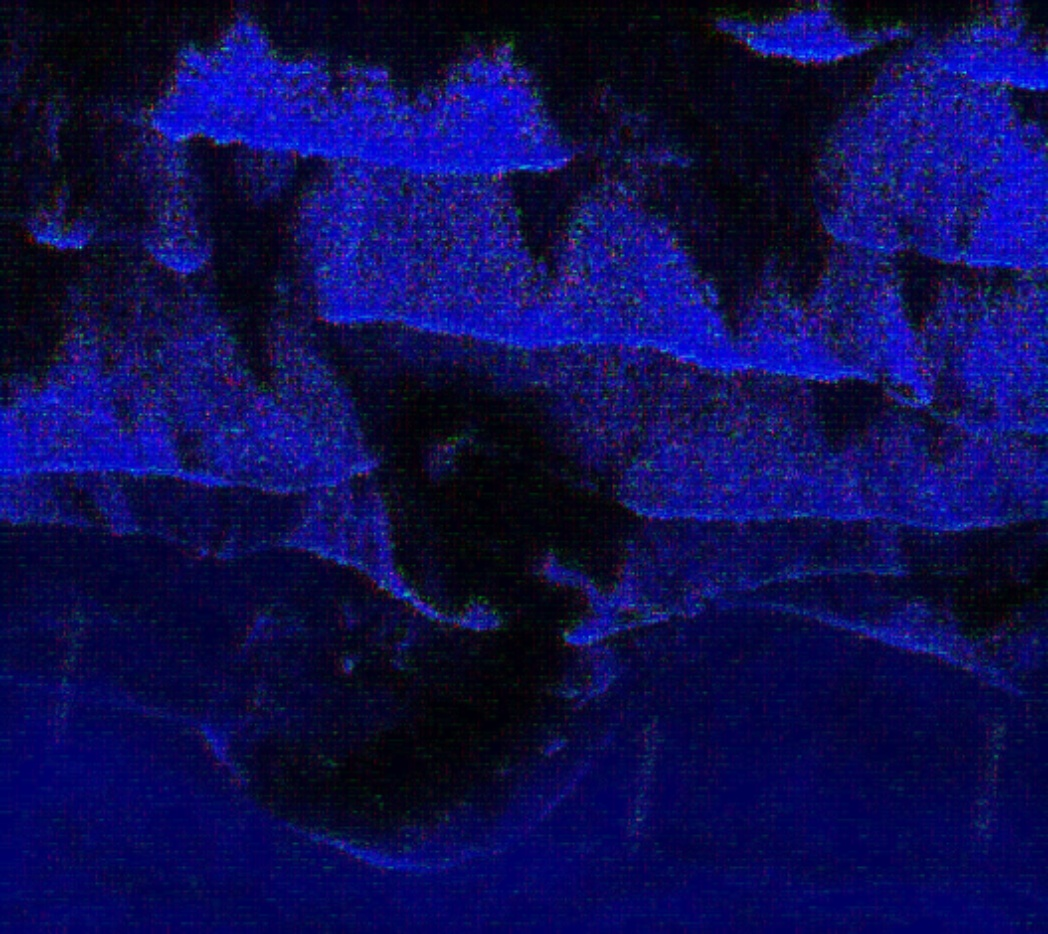rip_current: (269, 135, 619, 714)
